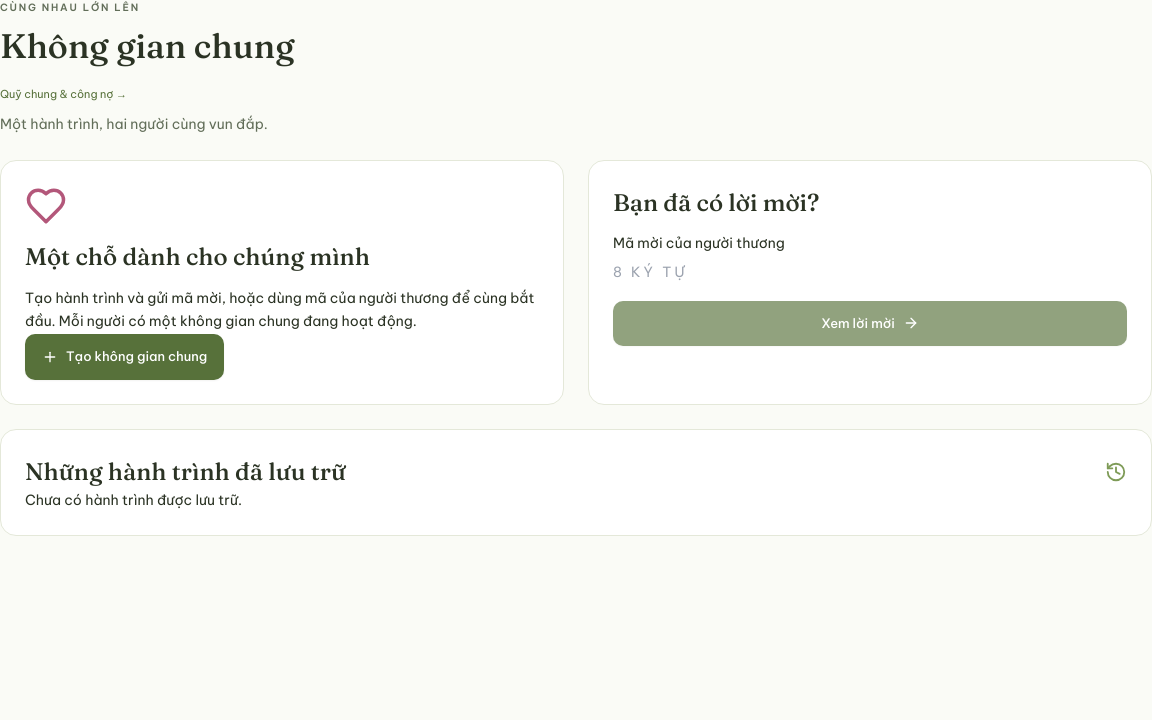
create validates name and submits anniversary
The width and height of the screenshot is (1152, 720).
Step 1. Click the button "Tạo không gian chung" → (125, 357), box top-left (25, 334), bottom-right (224, 380)
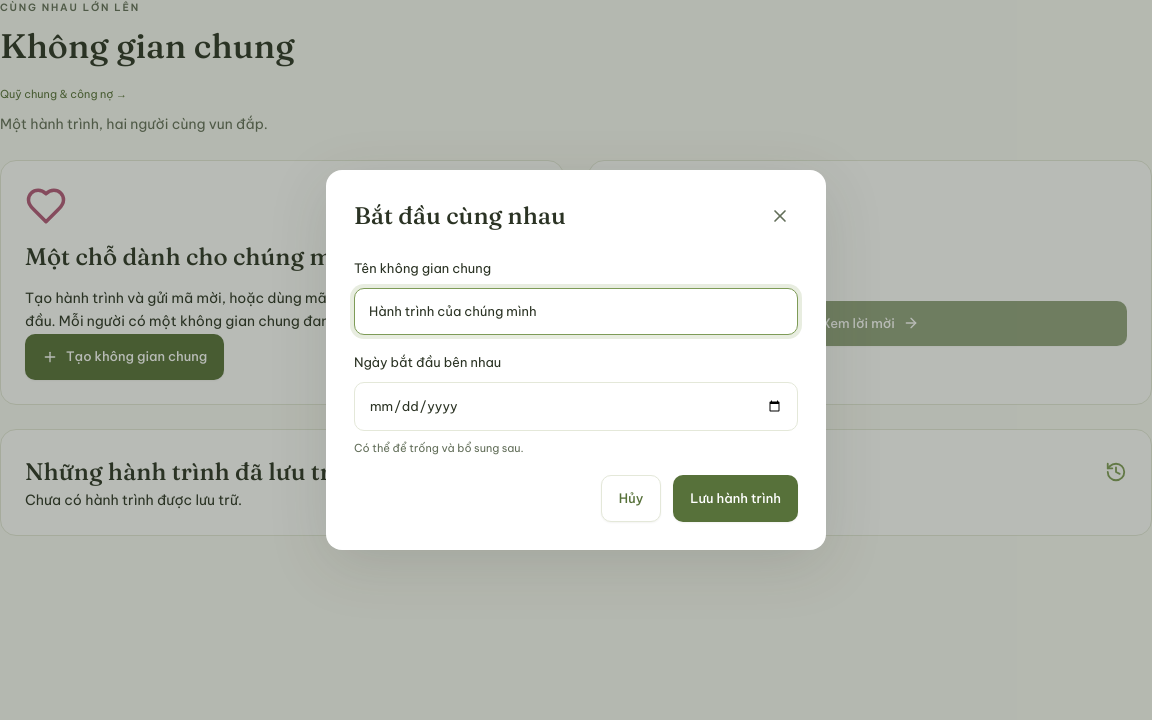
Step 2. Clear the field labelled "Tên không gian chung" → (576, 311), box top-left (354, 288), bottom-right (798, 335)
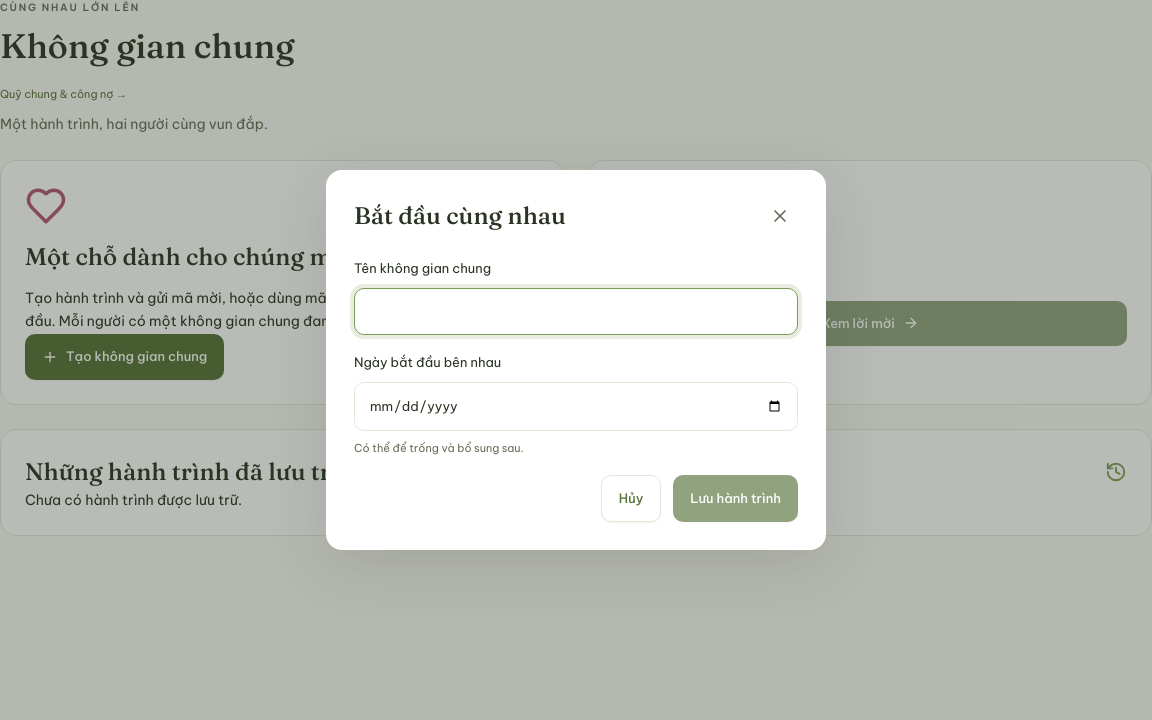
Expected: the button "Lưu hành trình" is disabled, top-left (673, 474), bottom-right (798, 522)
Step 3. Type "Minh & Lan" into the field labelled "Tên không gian chung" → (576, 311), box top-left (354, 288), bottom-right (798, 335)
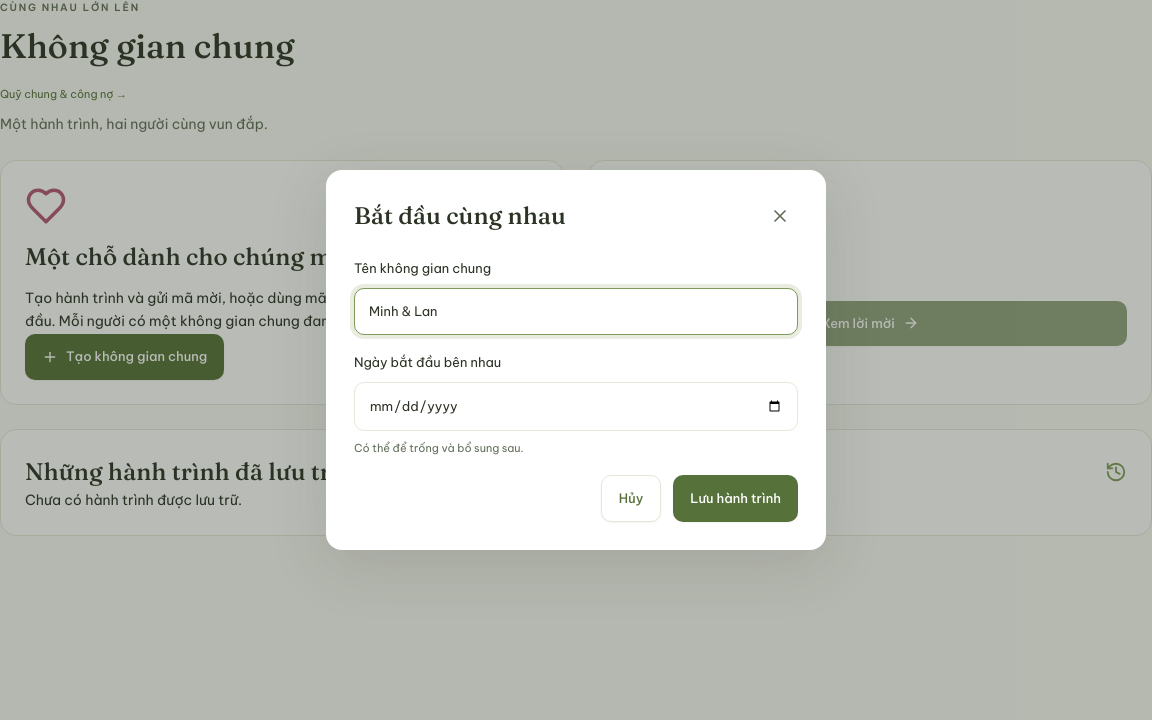
Step 4. Type "2020-10-03" into the date field labelled "Ngày bắt đầu bên nhau" → (576, 406), box top-left (354, 382), bottom-right (798, 431)
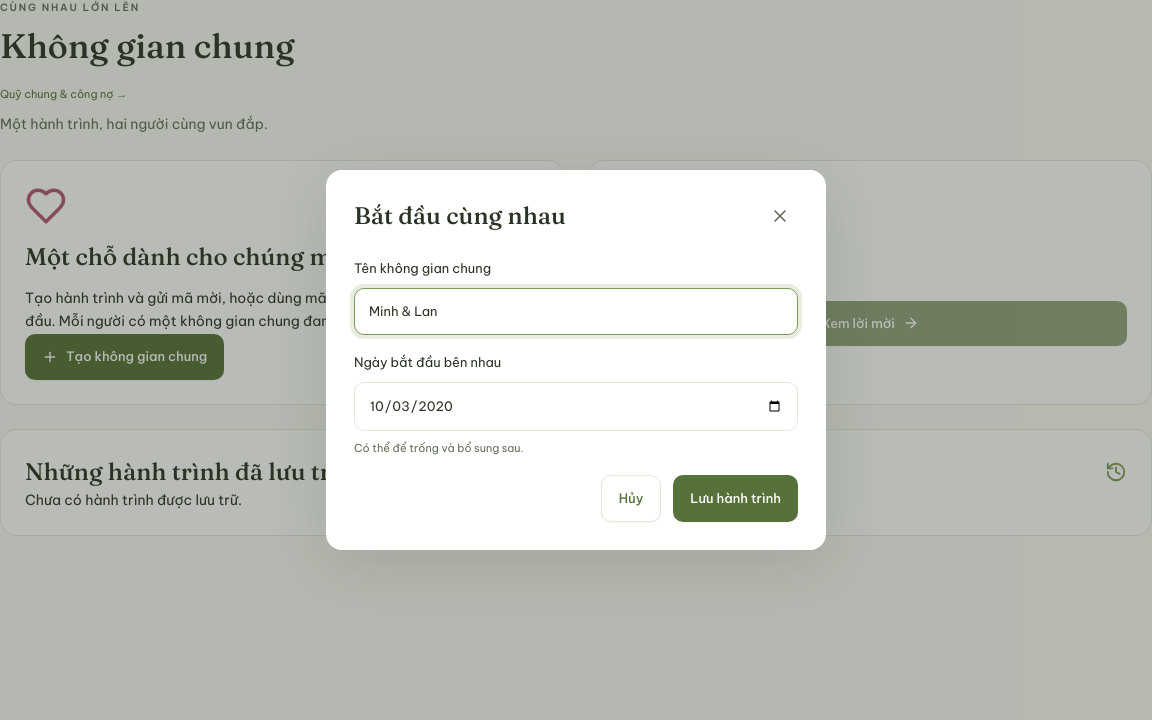
Step 5. Click the button "Lưu hành trình" → (736, 498), box top-left (673, 474), bottom-right (798, 522)
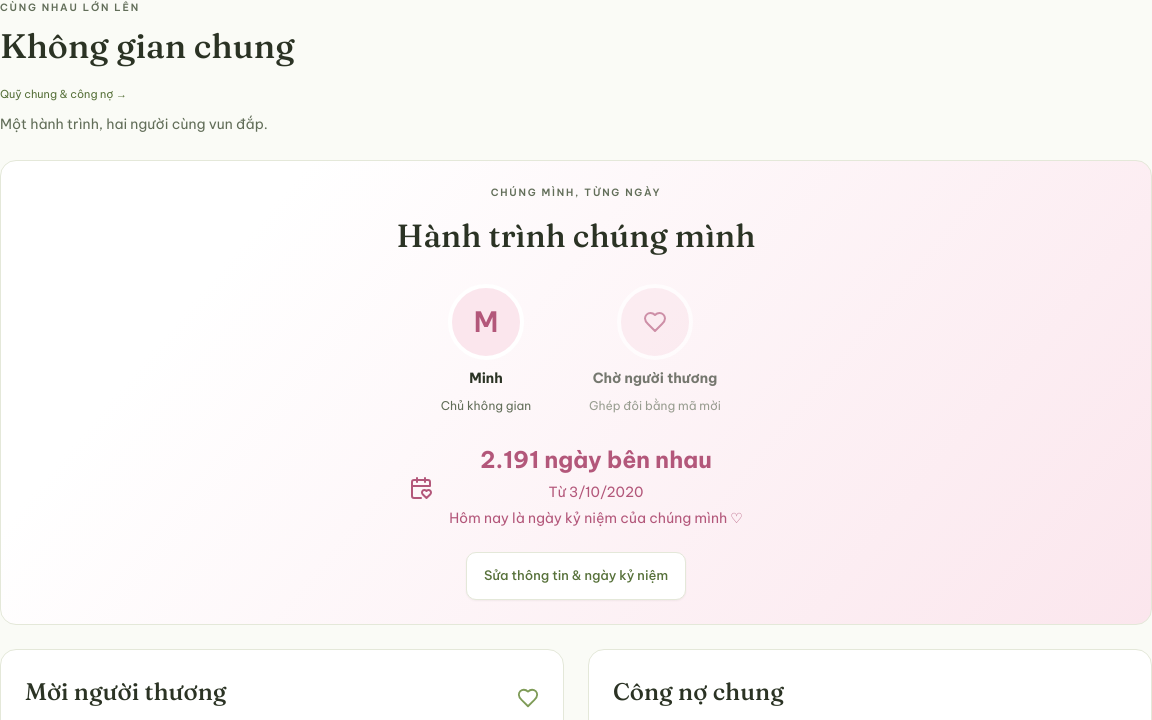
Expected: the text "Chờ người thương" is shown, top-left (593, 368), bottom-right (717, 388)
